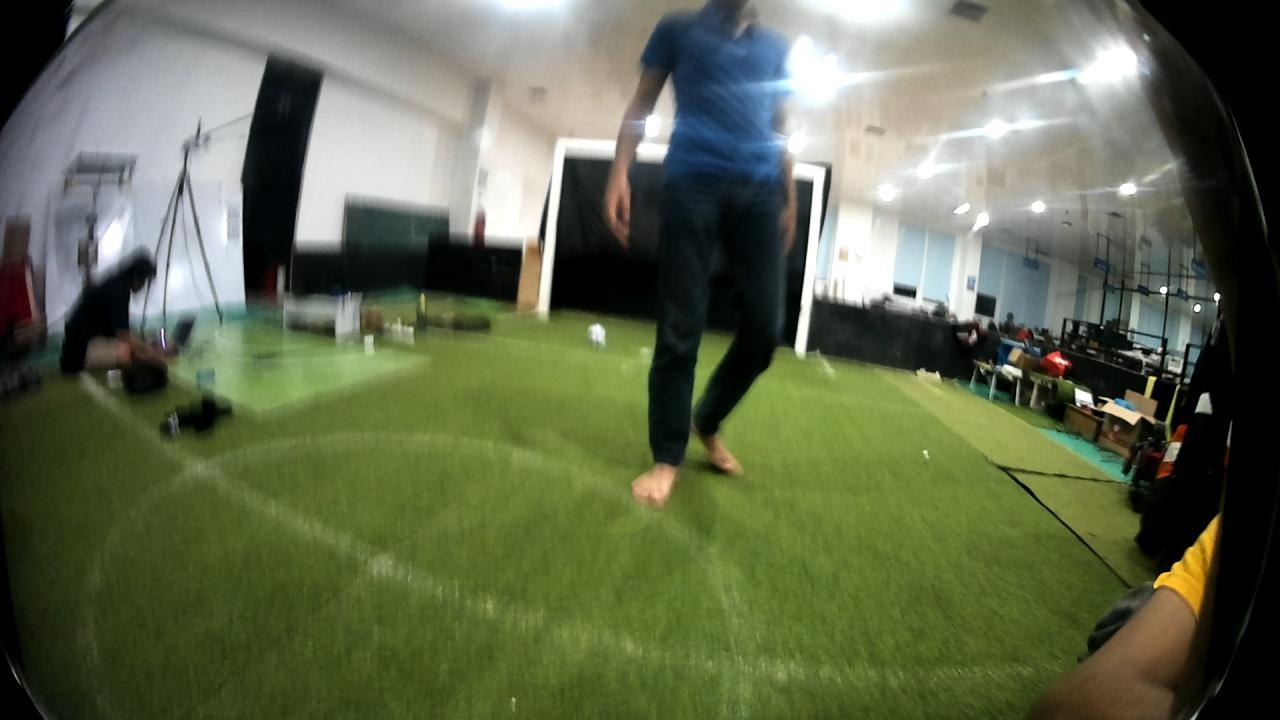ball: (586, 319, 606, 348)
